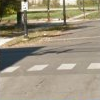crosswalk: (1, 62, 100, 72)
